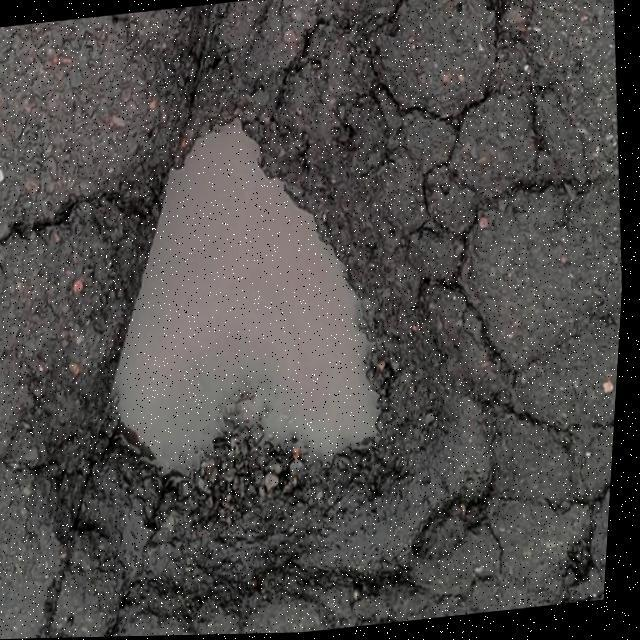pothole: (62, 89, 436, 524)
